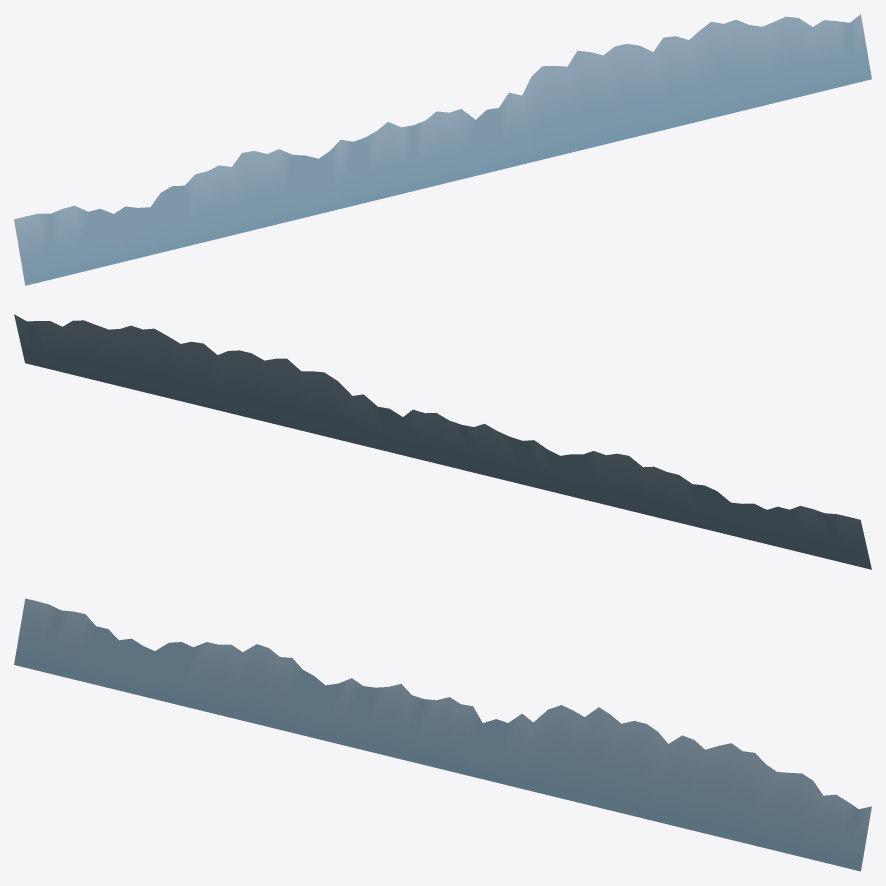
3 renders of one model, top to bottom at view 1: azimuth 30°, elevation 25°; view 2: azimuth 150°, elevation 25°; view 3: azimuth 330°, elevation 25°, orthographic.
Parts seen in each view (by area): view 1: sn_hz_b; view 2: sn_hz_b; view 3: sn_hz_b.
Boxes of the visible parts, x1,y1,x2,y2 form: sn_hz_b: (14, 14, 871, 285); sn_hz_b: (14, 314, 871, 569); sn_hz_b: (14, 598, 871, 871).
Bounding box in the file's own units: 420 × 40.08 × 14.04.
